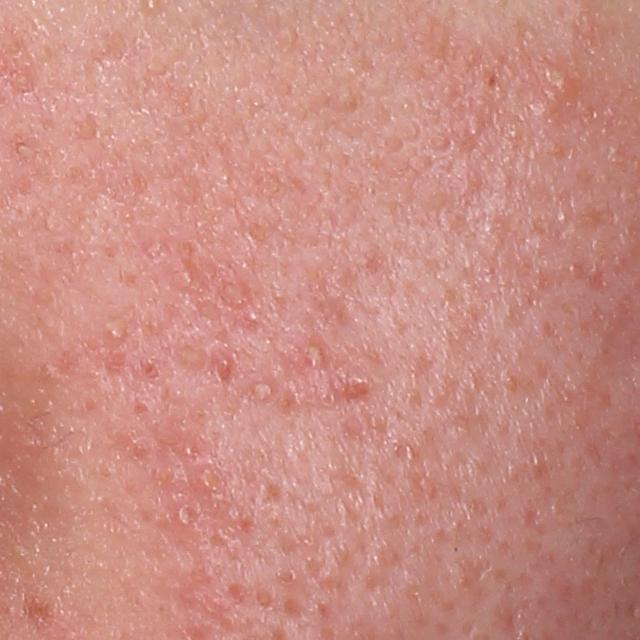comedo: (243, 303, 263, 328)
papule: (338, 372, 373, 400), (542, 67, 570, 100), (214, 352, 236, 376)
pustule: (244, 373, 284, 405), (168, 497, 195, 532), (100, 318, 127, 344)
